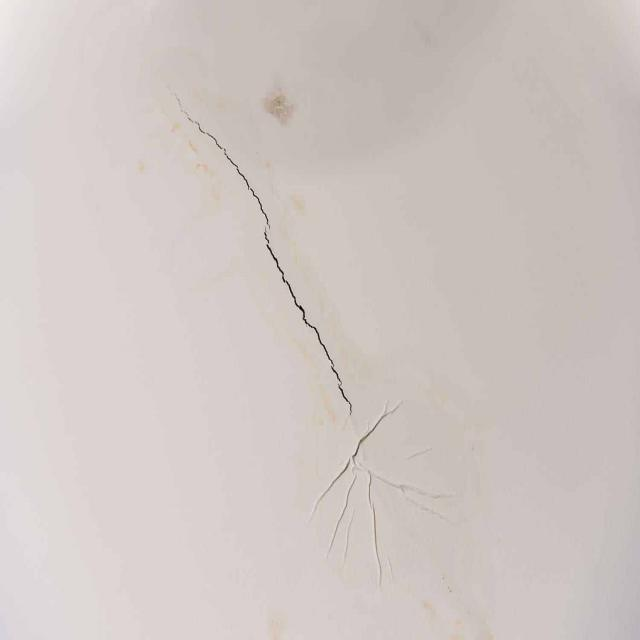leak: (308, 401, 451, 587), (262, 230, 354, 415), (170, 83, 270, 231)
